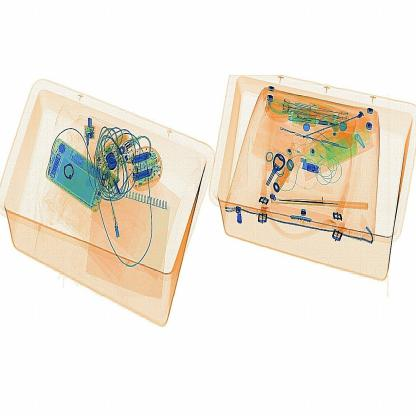wrench: (267, 189, 383, 219)
